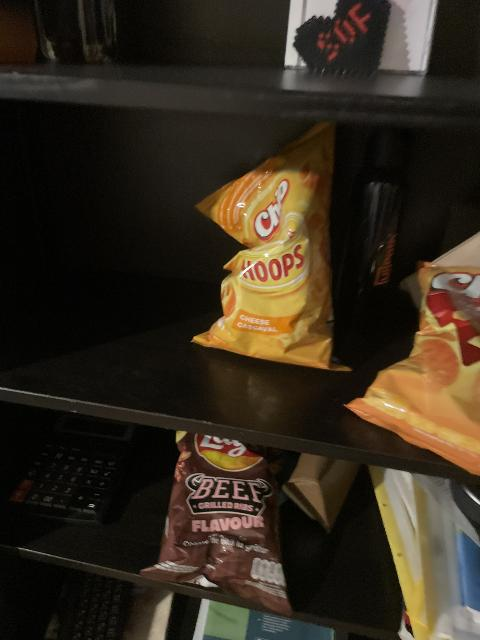Chio Cascaval 125g: (342, 263, 480, 480)
Chio Hula Hoops Cheese 70g: (189, 123, 347, 363)
Lays Beef Grilled Ribs 125g: (141, 430, 294, 616)
